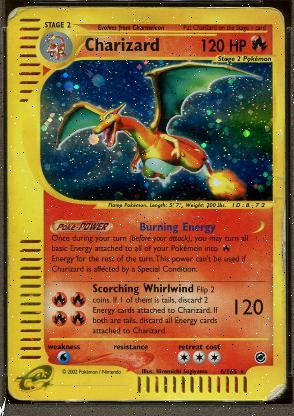Card: (3, 0, 291, 404)
Corner Wear: (277, 194, 285, 282), (257, 380, 286, 402), (257, 4, 285, 22), (5, 383, 23, 401), (4, 4, 20, 24)
Edge Wear: (271, 157, 284, 187), (24, 5, 155, 7), (281, 286, 284, 370), (281, 68, 284, 140), (191, 5, 248, 8), (66, 398, 91, 401)
